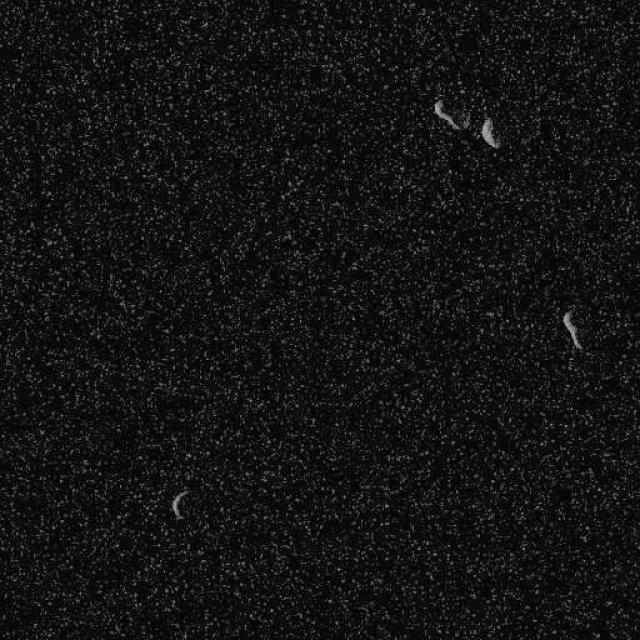D2: (431, 99, 465, 130), (562, 309, 582, 351), (479, 116, 500, 149), (170, 489, 190, 520)
